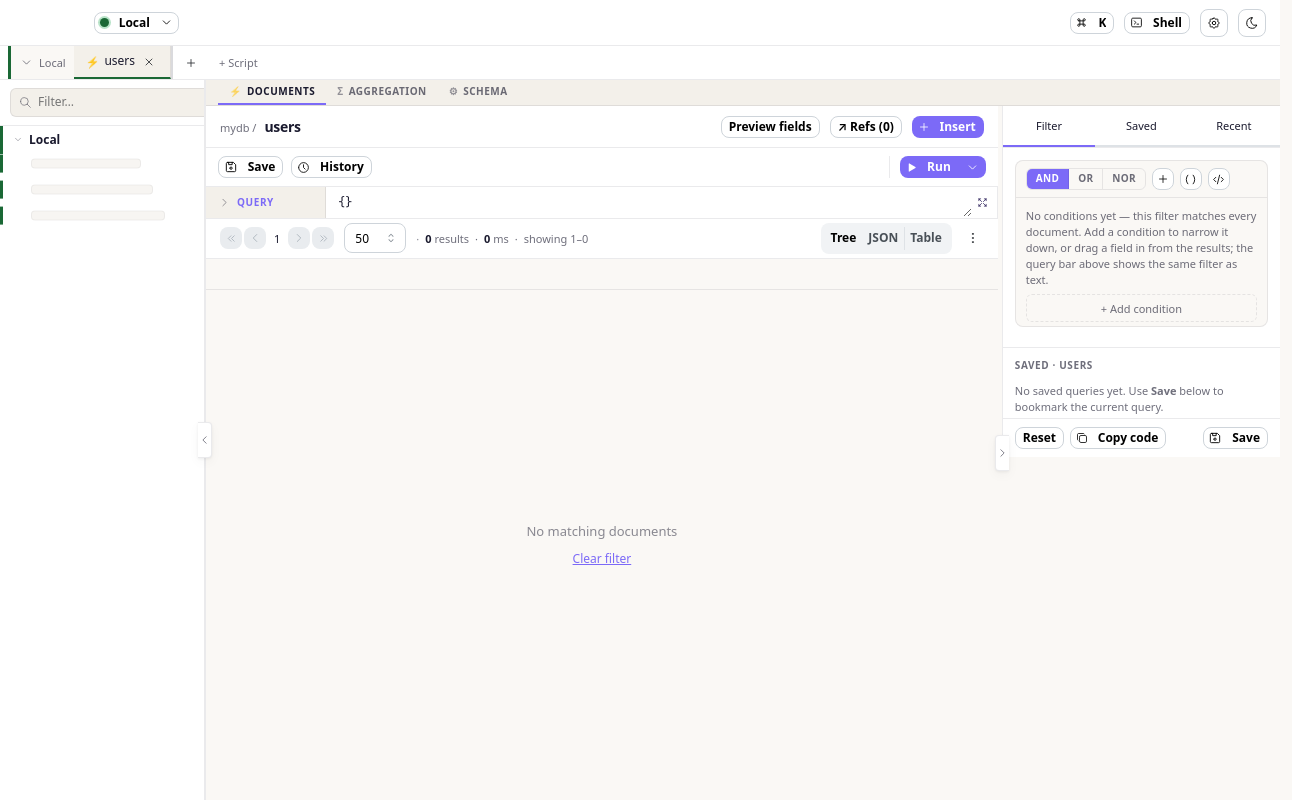
Test: W15 §13.1 — the empty tree has an empty state › says what the empty filter means and what to do, then yields to the first row
Expected: the text "drag a field" is shown, [1026,208,1256,287]
Click the button named "Add condition". click: (1163, 179)
box: [1152,168,1174,190]
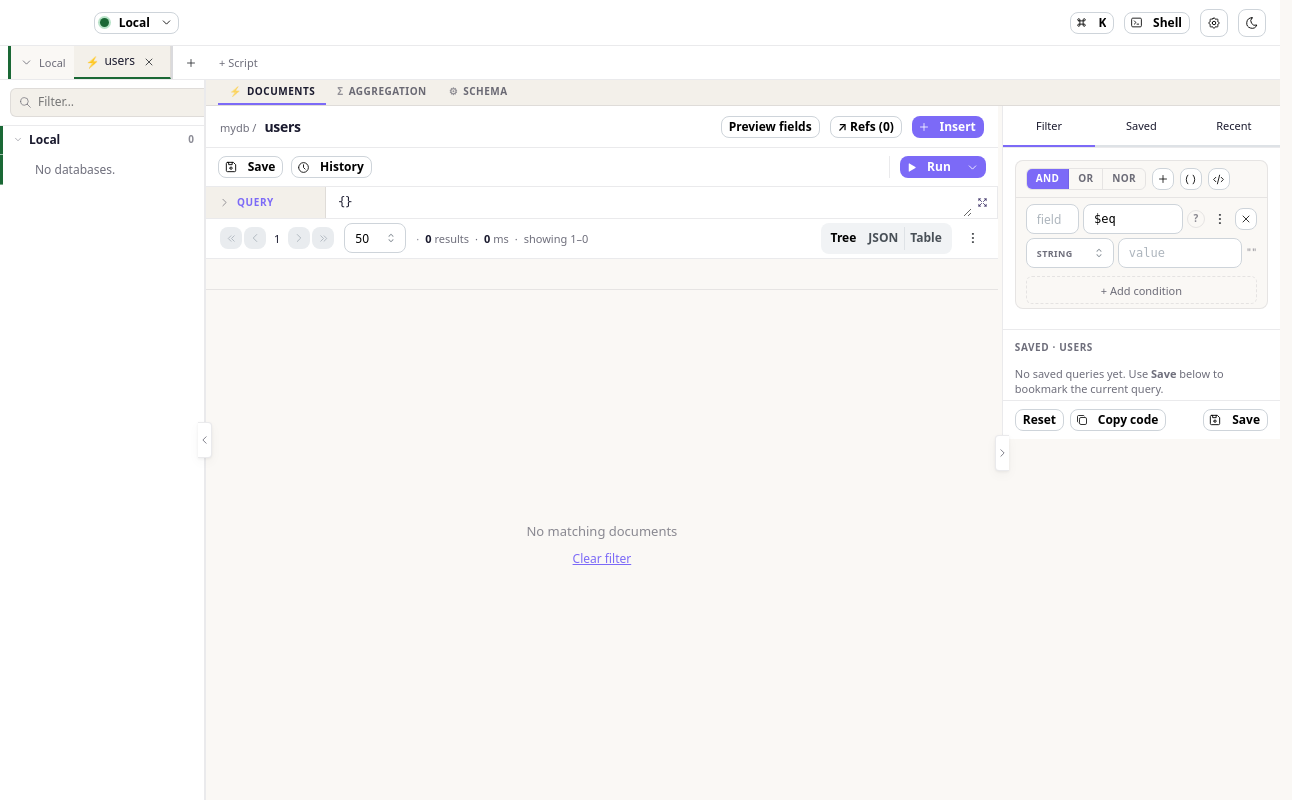
Expected: the text "matches every document" is gone
